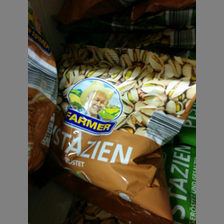nuts: (50, 43, 196, 224)
